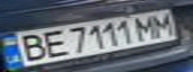1: (84, 21, 106, 50), (115, 17, 136, 44), (100, 20, 121, 46)
7: (66, 25, 87, 53)
B: (12, 30, 51, 62)
E: (36, 28, 69, 58)
M: (130, 12, 160, 41), (145, 11, 178, 37)
